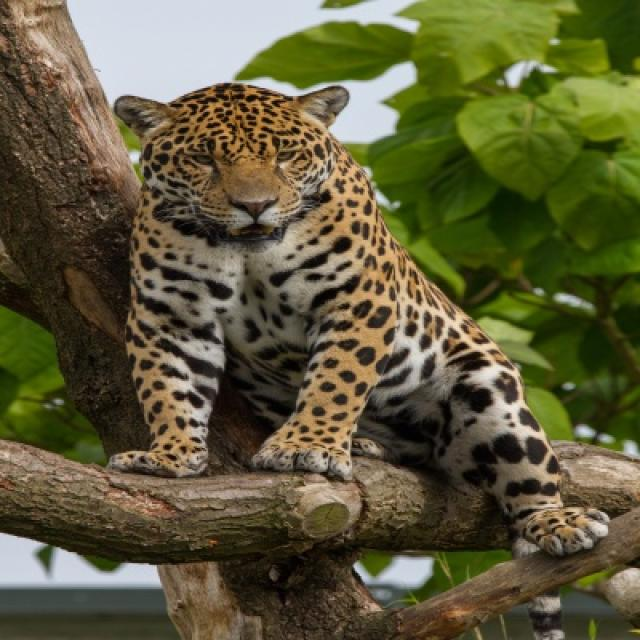Jaguar: (114, 83, 611, 600)
